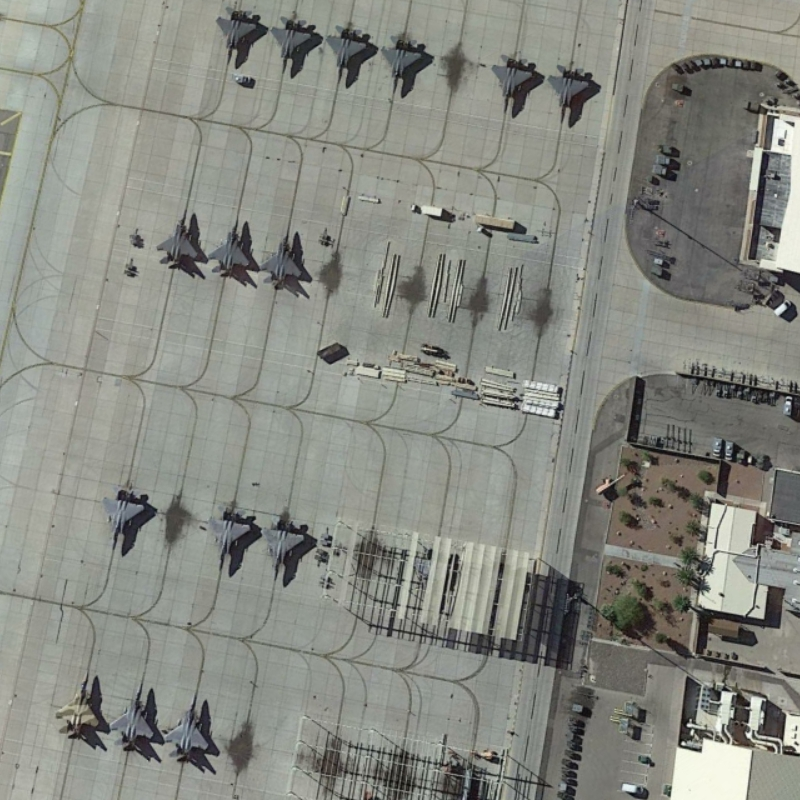A13: (160, 688, 212, 765), (50, 669, 103, 743), (105, 678, 157, 753), (257, 516, 310, 587), (99, 482, 147, 556), (206, 503, 252, 575), (324, 22, 372, 89), (204, 216, 254, 280), (154, 206, 203, 271), (257, 227, 305, 292), (378, 33, 425, 99), (213, 3, 259, 70), (490, 51, 536, 115), (546, 62, 591, 127), (269, 14, 314, 76)
